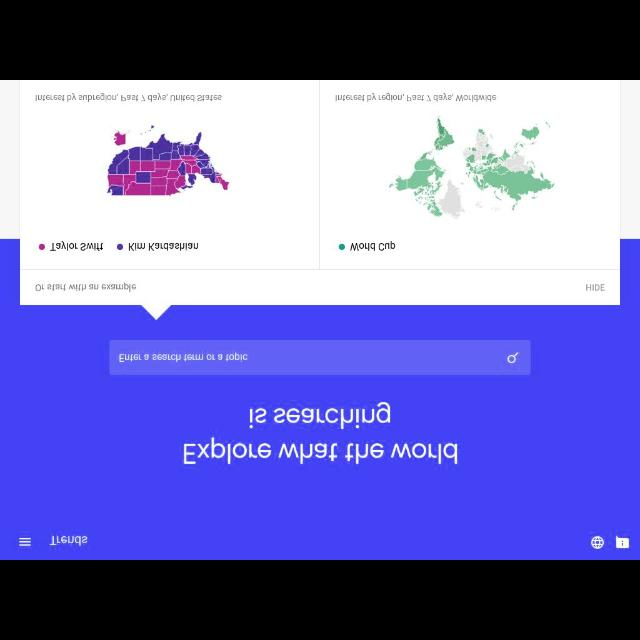icon: (616, 534, 630, 550), (590, 536, 604, 550), (506, 350, 520, 364), (18, 536, 32, 548)
image: (388, 114, 558, 220), (106, 124, 230, 196), (38, 243, 46, 251), (116, 243, 124, 251), (338, 243, 346, 251)
input: (110, 340, 530, 374)
text: (183, 402, 459, 466), (34, 92, 222, 102), (334, 93, 498, 103), (118, 351, 248, 363), (34, 282, 138, 292), (128, 240, 200, 252), (50, 242, 104, 252), (350, 241, 396, 251), (50, 536, 88, 546), (585, 283, 605, 291)
